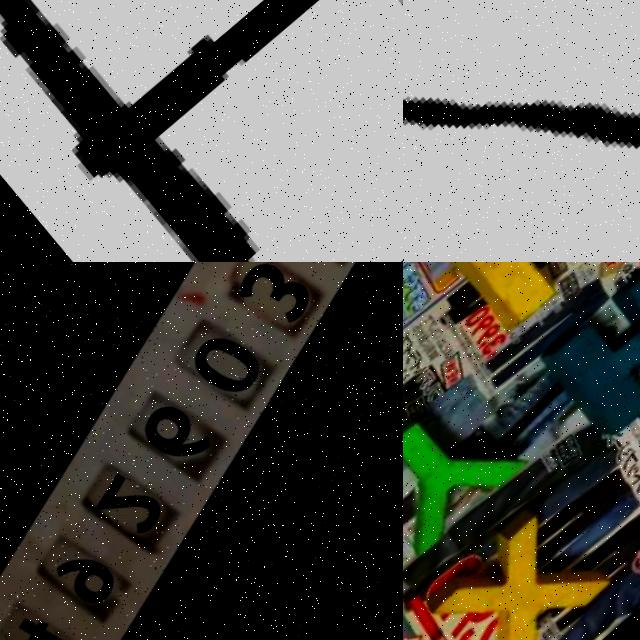0: (162, 303, 297, 432)
2: (72, 449, 199, 571)
3: (207, 262, 345, 362)
4: (0, 585, 111, 640)
6: (110, 370, 250, 506)
9: (26, 522, 152, 640)
K: (539, 262, 640, 435)
L: (439, 262, 638, 328)
V: (403, 0, 640, 262)
X: (424, 500, 620, 640)
Y: (403, 373, 543, 555)
